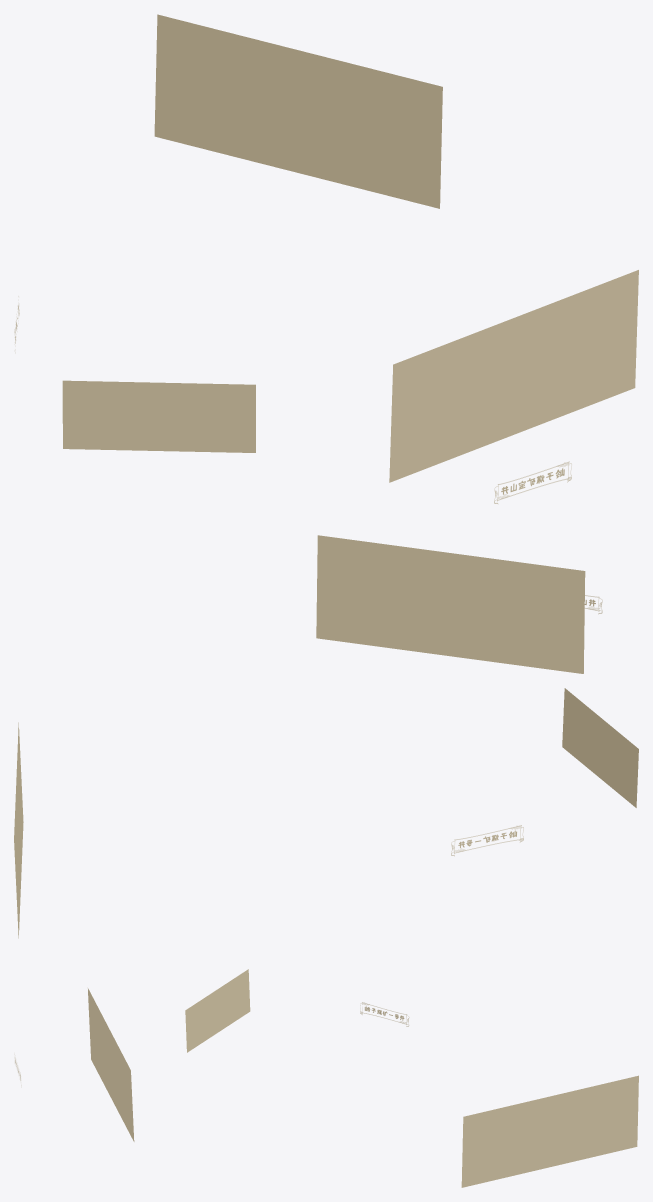
File: sky.glb
3 views of the same model, one above another, from view 1: azimuth 30°, elevation 25°; view 2: azimuth 150°, elevation 25°; view 3: azimuth 270°, elevation 25° (orthographic). The views are drawn at different scales.
Parts seen in each view (by area): view 1: 平面.001, 平面.003, 平面.002, 平面.004; view 2: 平面.003, 平面.002, 平面.001; view 3: 平面.001, 平面.003, 平面.002.
Boxes of the visible parts, <box> form: 平面.001: <box>154,14,442,208</box>; 平面.003: <box>389,270,638,482</box>; 平面.002: <box>62,380,255,452</box>; 平面.004: <box>494,461,571,503</box>; 平面.003: <box>316,535,585,673</box>; 平面.002: <box>562,688,638,807</box>; 平面.001: <box>14,722,23,938</box>; 平面.001: <box>461,1075,638,1187</box>; 平面.003: <box>88,988,134,1141</box>; 平面.002: <box>185,969,250,1052</box>.
Bounding box in the file's own units: 72.91 × 19.75 × 117.
Materials: 3 (3 with a texture image).
